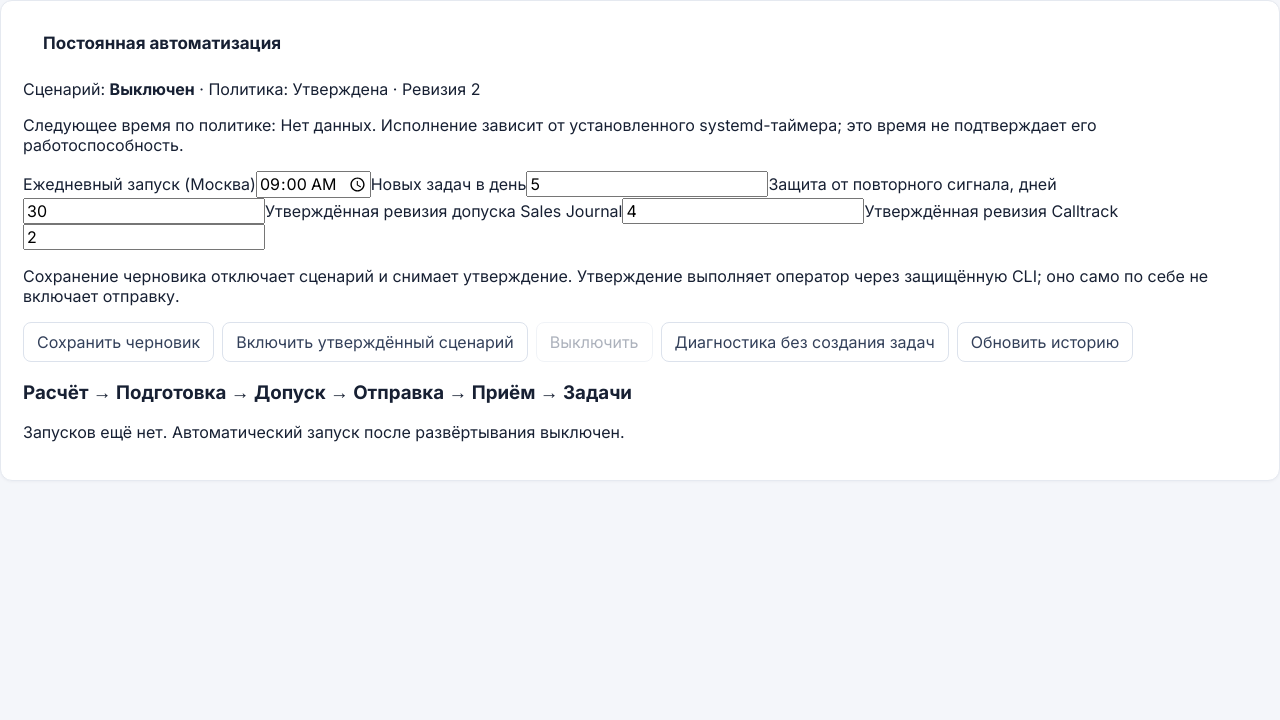
Test: draft is explicit and versioned with csrf header; no approval request
expect the text "Сценарий: Выключен · Политика: Утверждена · Ревизия 2" is shown: met, box [23,79,480,99]
Step 1. Replace the text in the number field labelled "Новых задач в день" with "7" → [648, 184], box [526,171,768,197]
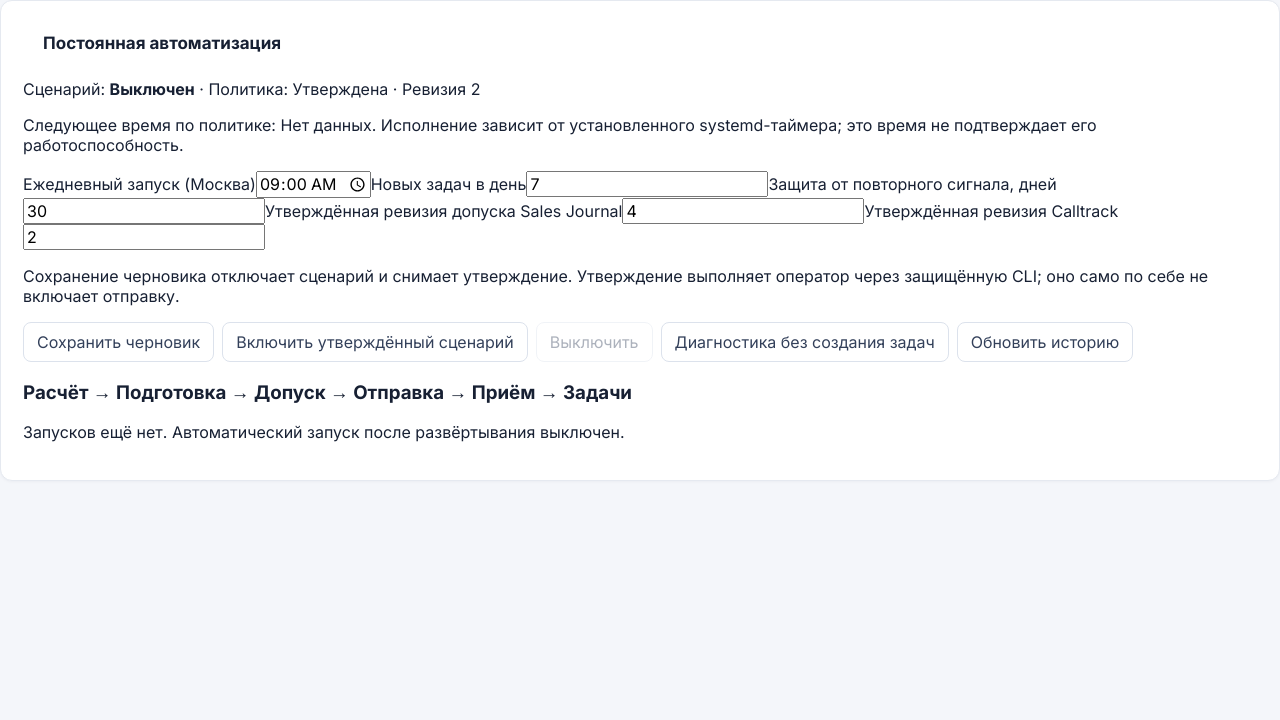
Step 2. Click the button "Сохранить черновик" → [119, 342], box [23,322,214,362]
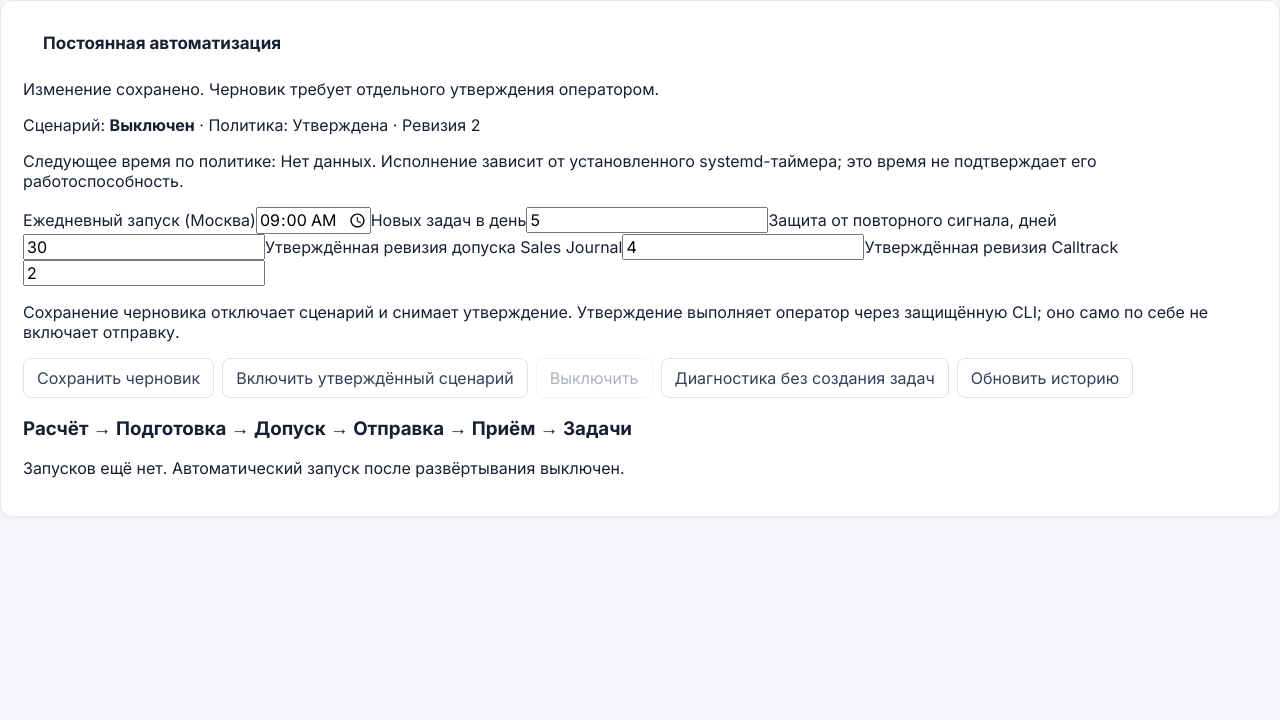
expect the text "Изменение сохранено. Черновик требует отдельного утверждения оператором." is shown: met, box [23,79,659,99]
